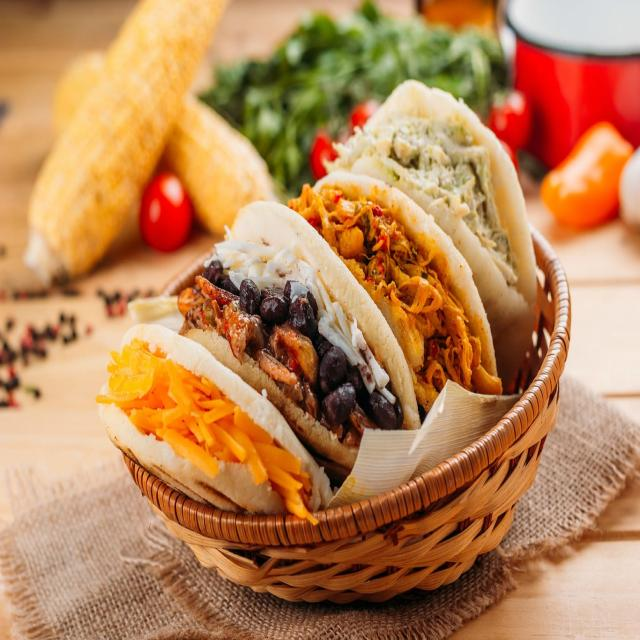carne de cerdo: (308, 183, 417, 276)
